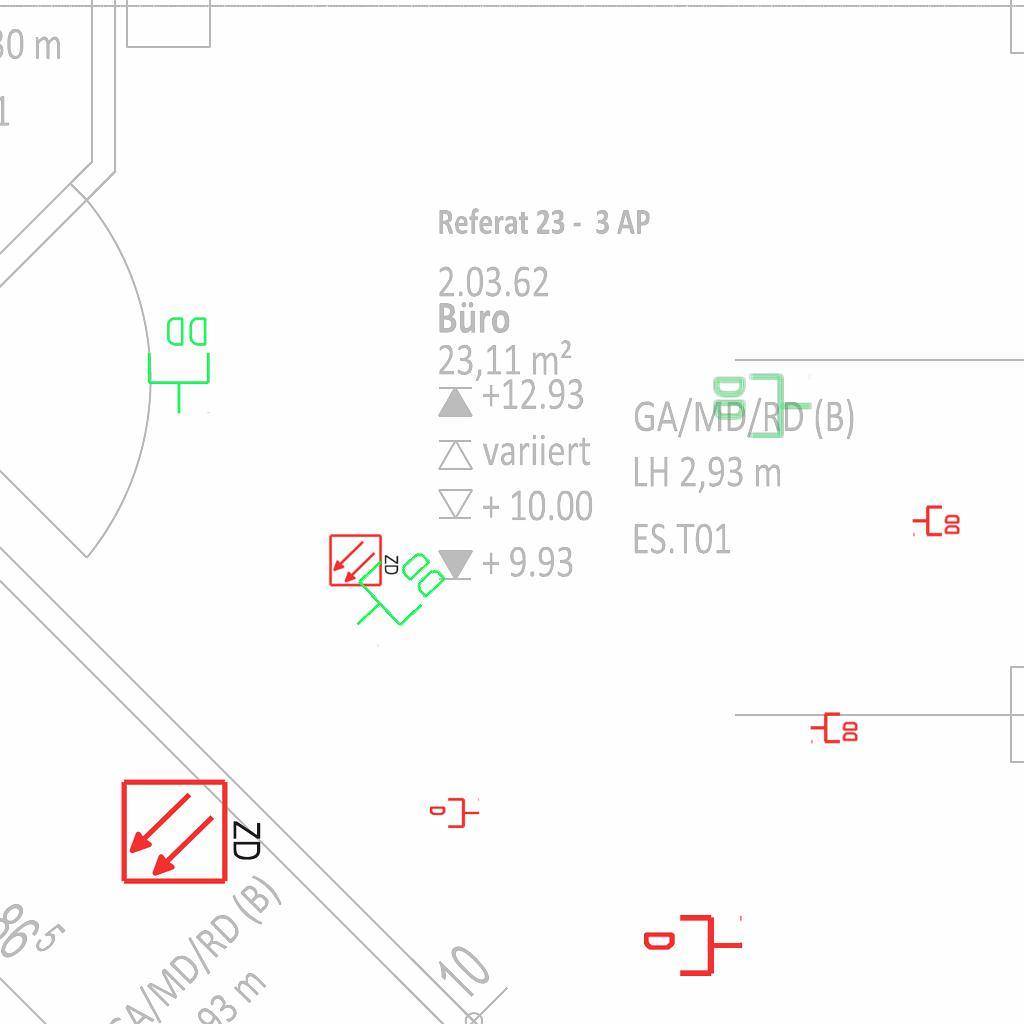Datenanschluss_einfach: (644, 911, 744, 980), (430, 796, 480, 830)
Datenanschluss_zweifach: (332, 531, 455, 652), (145, 313, 214, 416), (711, 371, 814, 440), (911, 503, 962, 537), (809, 710, 860, 744)
ZD_Melder_in_Zwischendecke_mit_Revisionsoeffnung_mind_40_x_40_cm: (119, 773, 268, 887), (328, 531, 402, 588)
